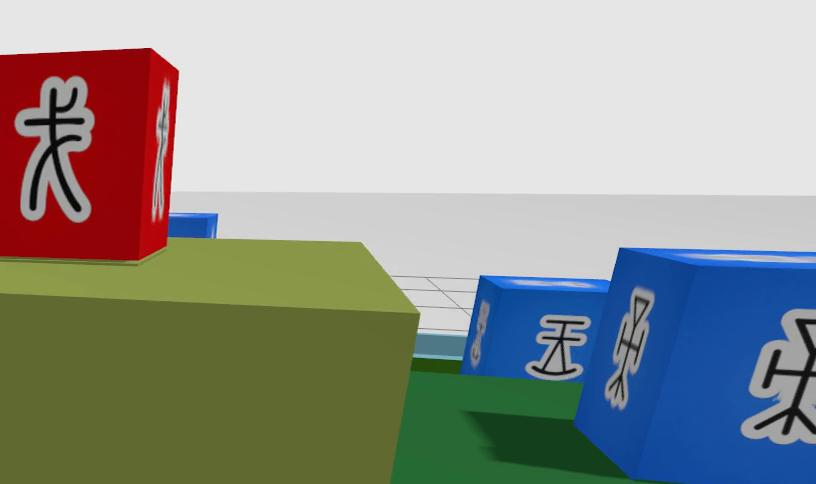KFS_FAKE: (0, 48, 178, 261), (15, 76, 94, 220)
KFS_REAL: (576, 247, 815, 484), (460, 275, 608, 382), (741, 309, 815, 443), (604, 286, 654, 409), (526, 315, 590, 380)
